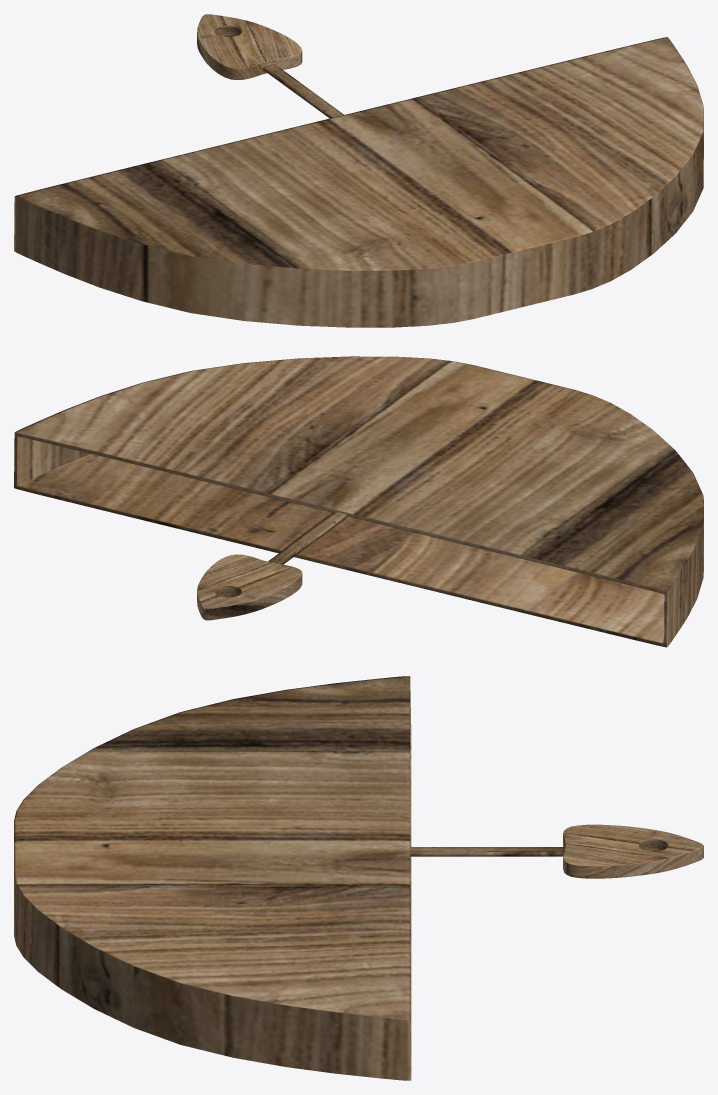
File: Cache.FBX
The picture shows the model from 3 angles, top to bottom: view 1: azimuth 30°, elevation 25°; view 2: azimuth 150°, elevation 25°; view 3: azimuth 270°, elevation 25°; orthographic projection. The views are drawn at different scales.
Visible parts, largest first — view 1: Ouija004; view 2: Ouija004; view 3: Ouija004.
Part boxes in pixels (x1,y1,x2,y2): Ouija004: (14, 14, 703, 327); Ouija004: (14, 356, 703, 647); Ouija004: (14, 676, 703, 1080).
Size of the model in its own units: 30.08 by 2.63 by 25.44.
Materials: 1 (1 with a texture image).
